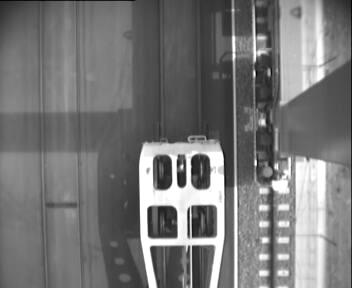twist_lock_2: (147, 149, 214, 195)
